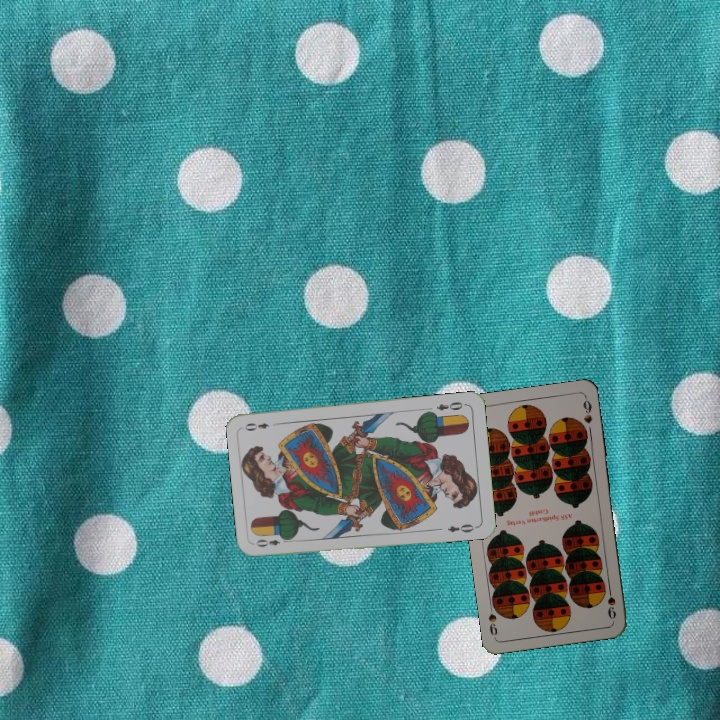EO: (252, 533, 292, 550), (433, 397, 469, 413)
S9: (603, 581, 619, 622)
